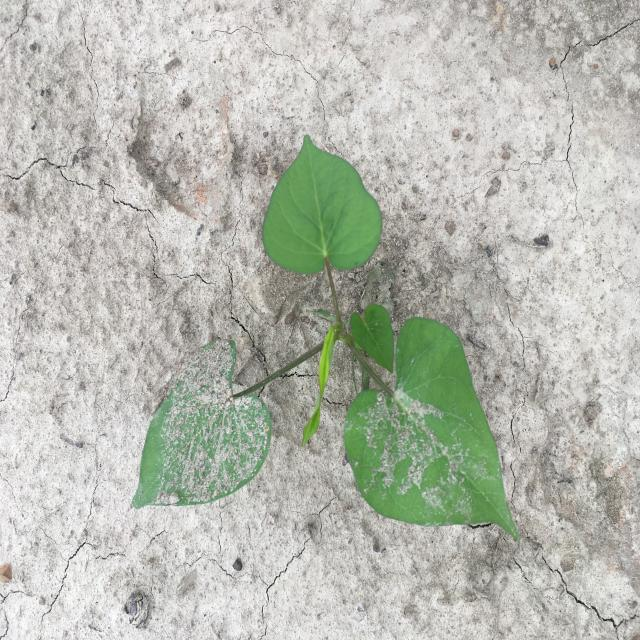MorningGlory: (129, 134, 519, 542)
